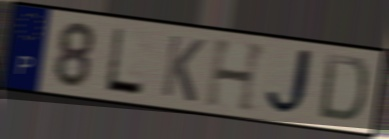8: (52, 20, 97, 90)
D: (315, 51, 371, 125)
H: (202, 37, 271, 115)
J: (264, 47, 321, 118)
K: (158, 32, 207, 106)
L: (103, 25, 147, 99)
